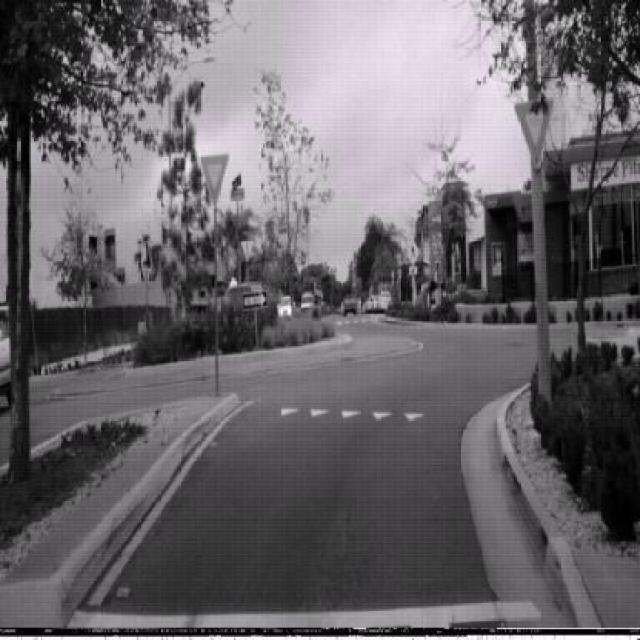pedestrianCrossing: (406, 238, 422, 267)
yield: (514, 95, 554, 170), (198, 150, 230, 204)
